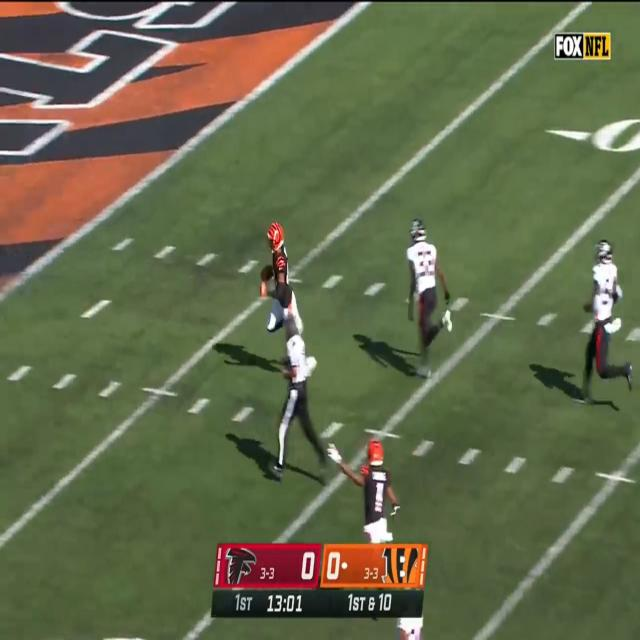Ball: (259, 266, 273, 283)
